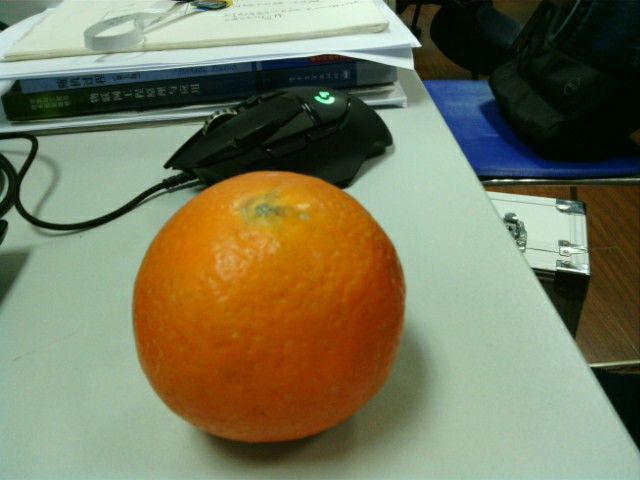normal_orange: (134, 169, 407, 439)
